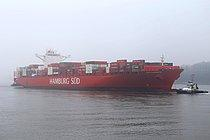Ship: (10, 44, 186, 96)
